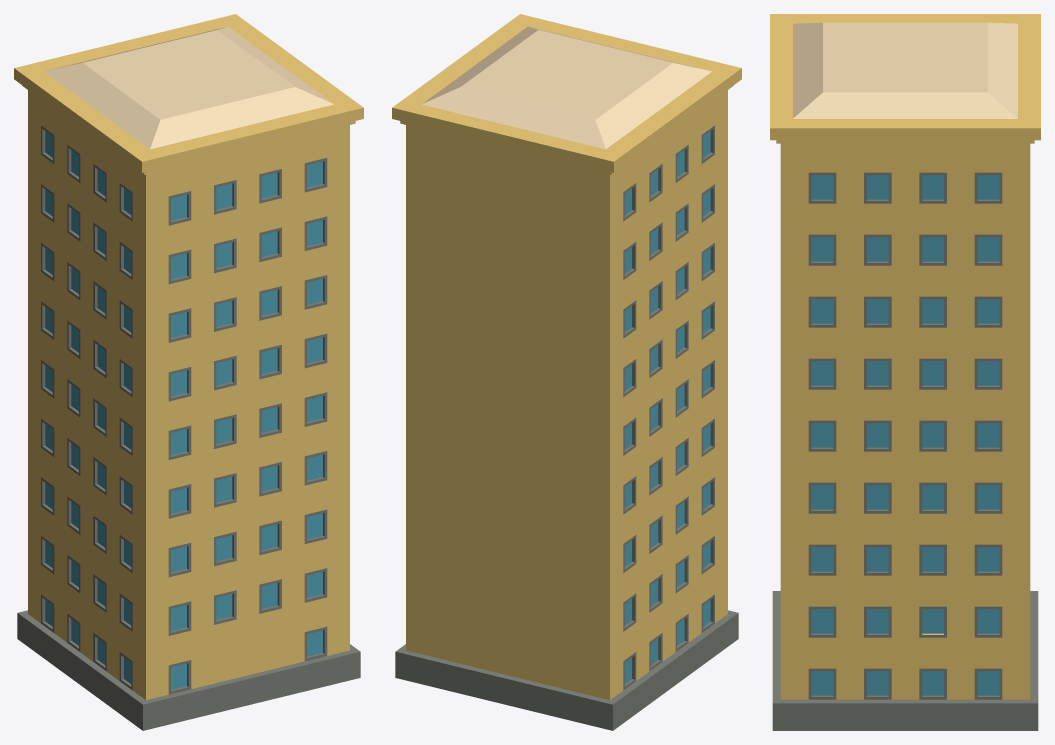
The model's file is building3.fbx.
3 views of the same model, side by side, from view 1: azimuth 30°, elevation 25°; view 2: azimuth 150°, elevation 25°; view 3: azimuth 270°, elevation 25° (orthographic). The views are drawn at different scales.
Visible parts, largest first — view 1: Building3; view 2: Building3; view 3: Building3.
Part boxes in pixels (x1,y1,x2,y2): Building3: (14,14,363,730); Building3: (392,14,741,730); Building3: (770,14,1040,730).
Bounding box in the file's own units: 6.95 × 17.48 × 6.95.
